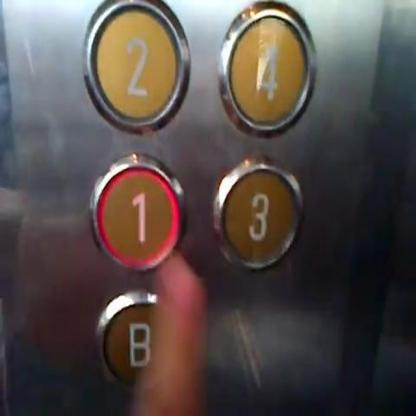1: (88, 152, 186, 274)
2: (80, 0, 191, 134)
3: (211, 153, 302, 272)
4: (214, 0, 314, 136)
B: (94, 289, 182, 398)
